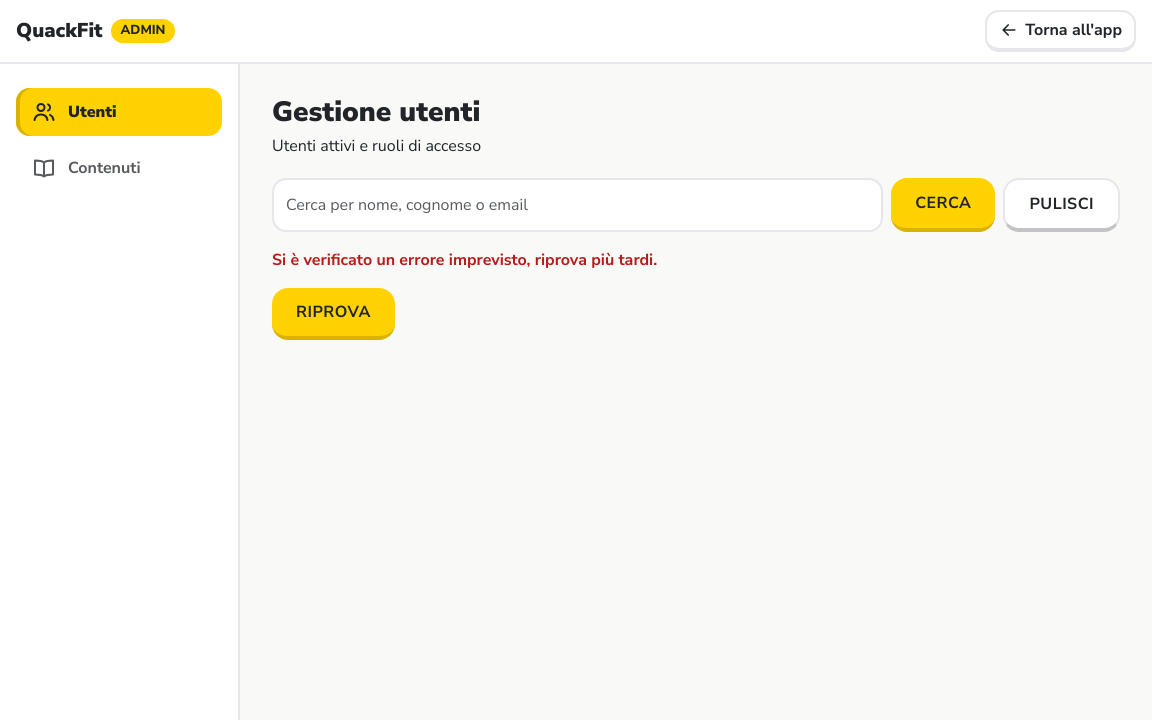
Scenario: gestione utenti: caricamento fallito › rete o 500 sulla lista: messaggio e "Riprova", che rilegge e mostra la lista
The image size is (1152, 720).
Expected: the text "Si è verificato un errore imprevisto, riprova più tardi." is shown, [272,249,657,271]
Click the button "Riprova": (333, 314) [272,288,395,340]
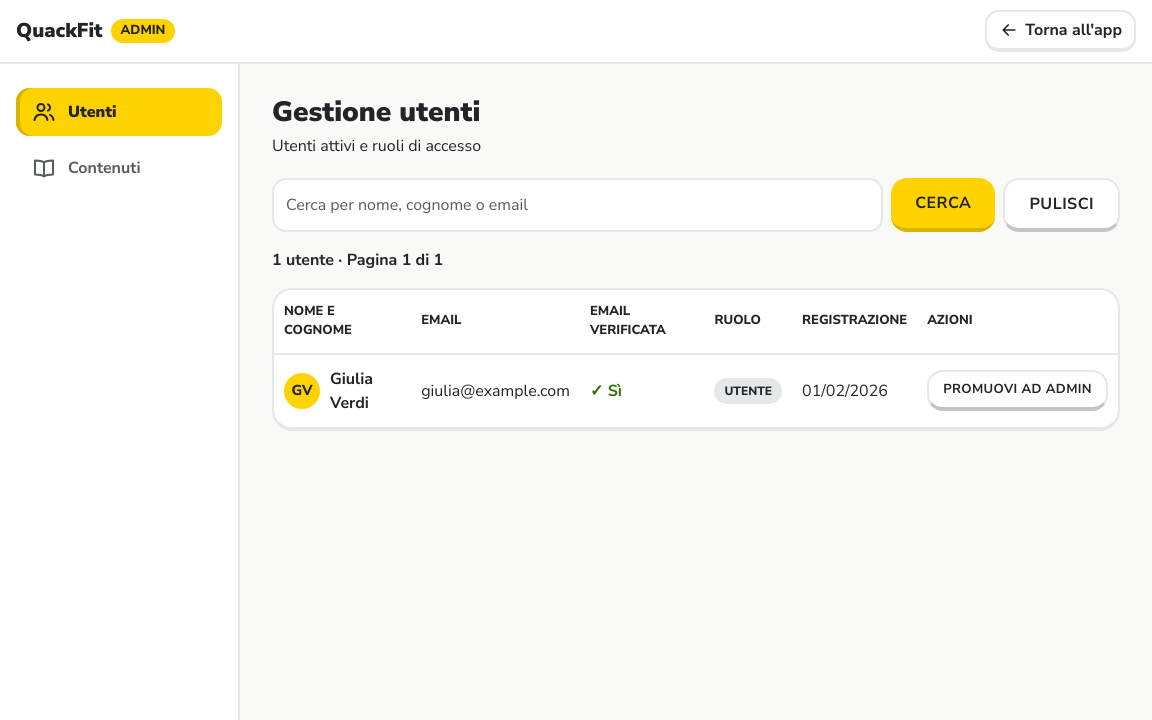
Result: the text "Giulia Verdi" is shown at [330,368,373,414]
Result: the message "riprova" is gone
